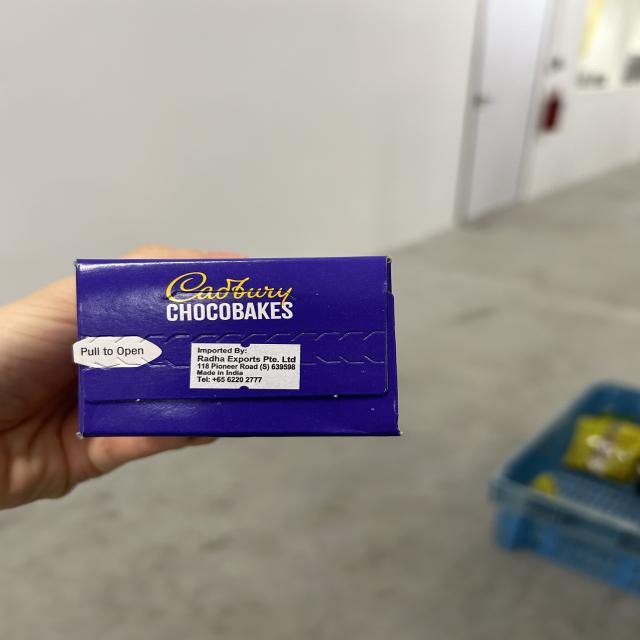object_name: (79, 264, 392, 434)
